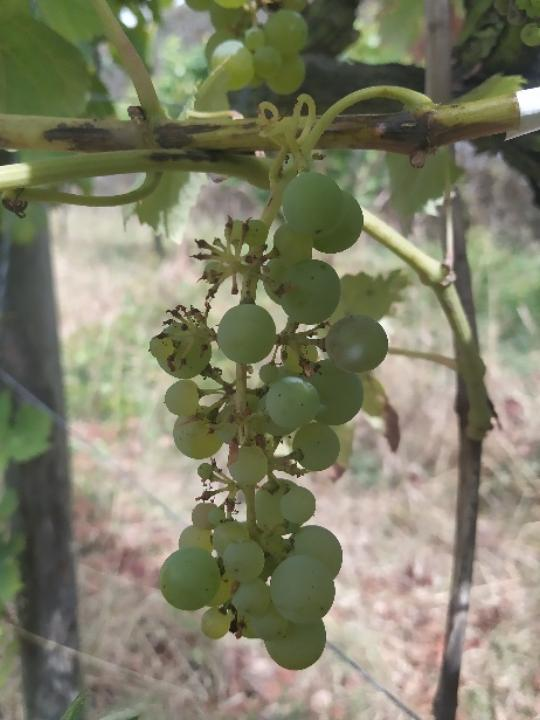grape: (146, 169, 392, 673)
